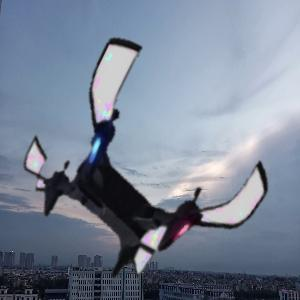drone: (26, 51, 272, 297)
